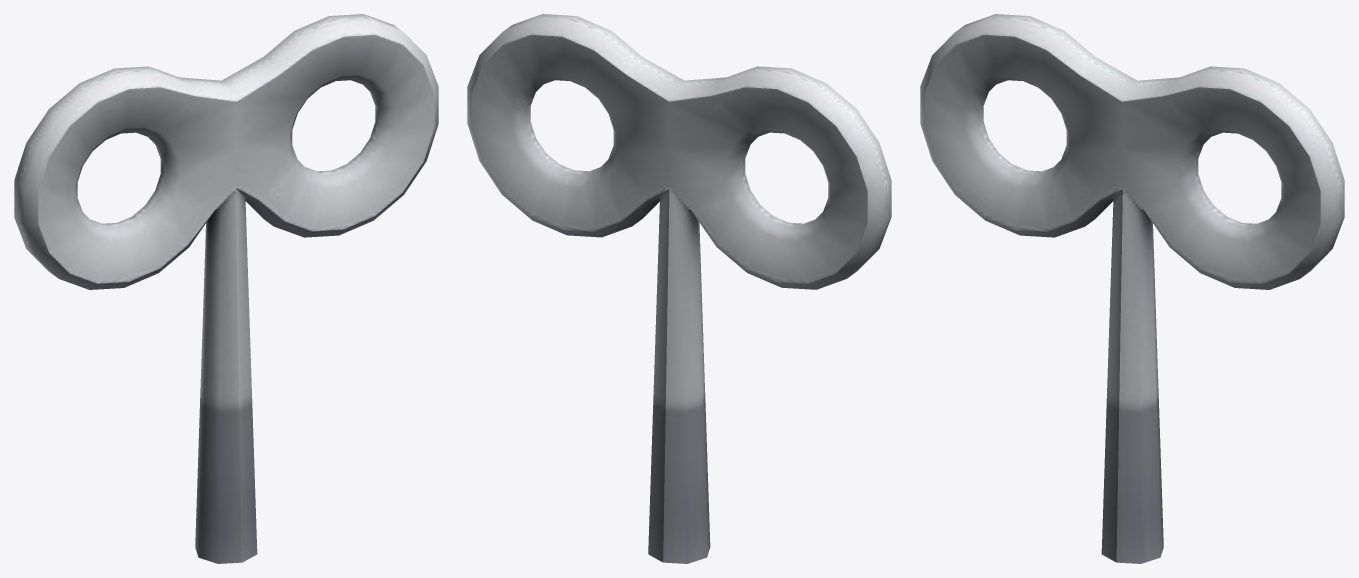
Rendered from jiqiren_fatiao.fbx.
The picture shows the model from 3 angles, left to right: view 1: azimuth 30°, elevation 25°; view 2: azimuth 150°, elevation 25°; view 3: azimuth 330°, elevation 25°; orthographic projection.
Parts seen in each view (by area): view 1: tou; view 2: tou; view 3: tou.
Boxes of the visible parts, x1,y1,x2,y2 form: tou: (14, 14, 438, 563); tou: (467, 14, 891, 563); tou: (920, 14, 1344, 563).
Bounding box in the file's own units: 0.0916 × 0.1066 × 0.0124.
